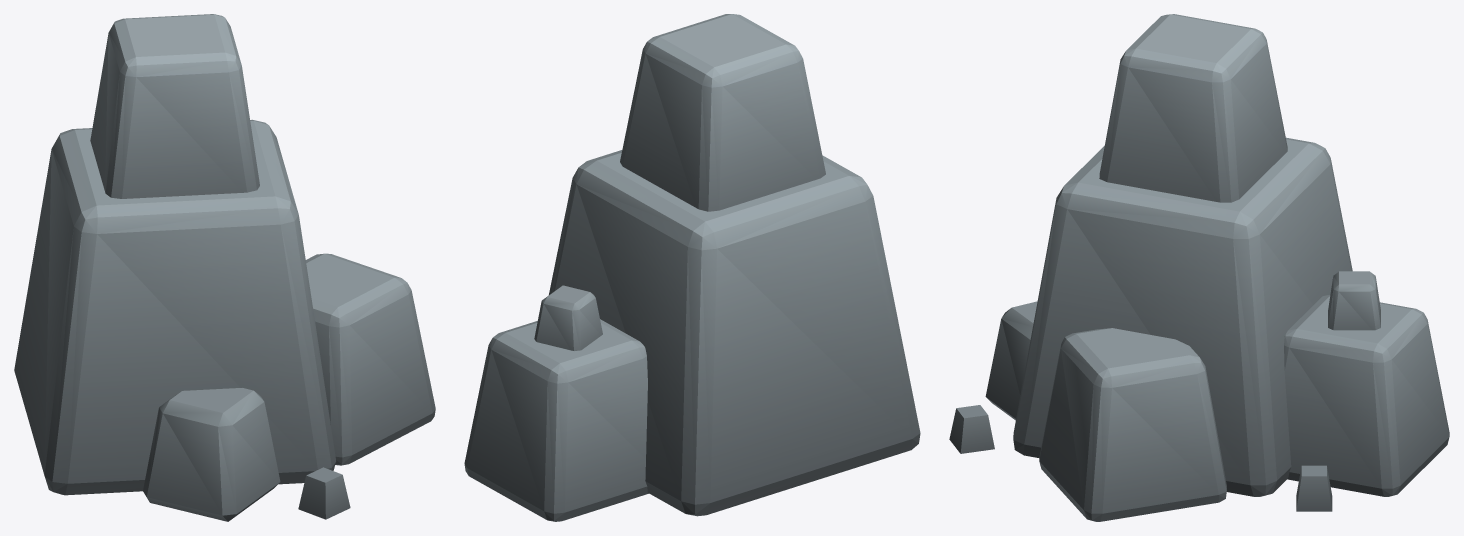
File: kf_rock_2_g.fbx
The picture shows the model from 3 angles, left to right: view 1: azimuth 30°, elevation 25°; view 2: azimuth 150°, elevation 25°; view 3: azimuth 270°, elevation 25°; orthographic projection. The views are drawn at different scales.
Parts seen in each view (by area): view 1: kf_rock_2_g_LOD0; view 2: kf_rock_2_g_LOD0; view 3: kf_rock_2_g_LOD0.
Part boxes in pixels (bbox=[...]): kf_rock_2_g_LOD0: bbox=[14, 14, 435, 521]; kf_rock_2_g_LOD0: bbox=[464, 14, 920, 521]; kf_rock_2_g_LOD0: bbox=[949, 14, 1449, 521].
Size of what is drawn, in the model's own units: 7.42 by 7.67 by 8.95.
Materials: 1 (1 with a texture image).
